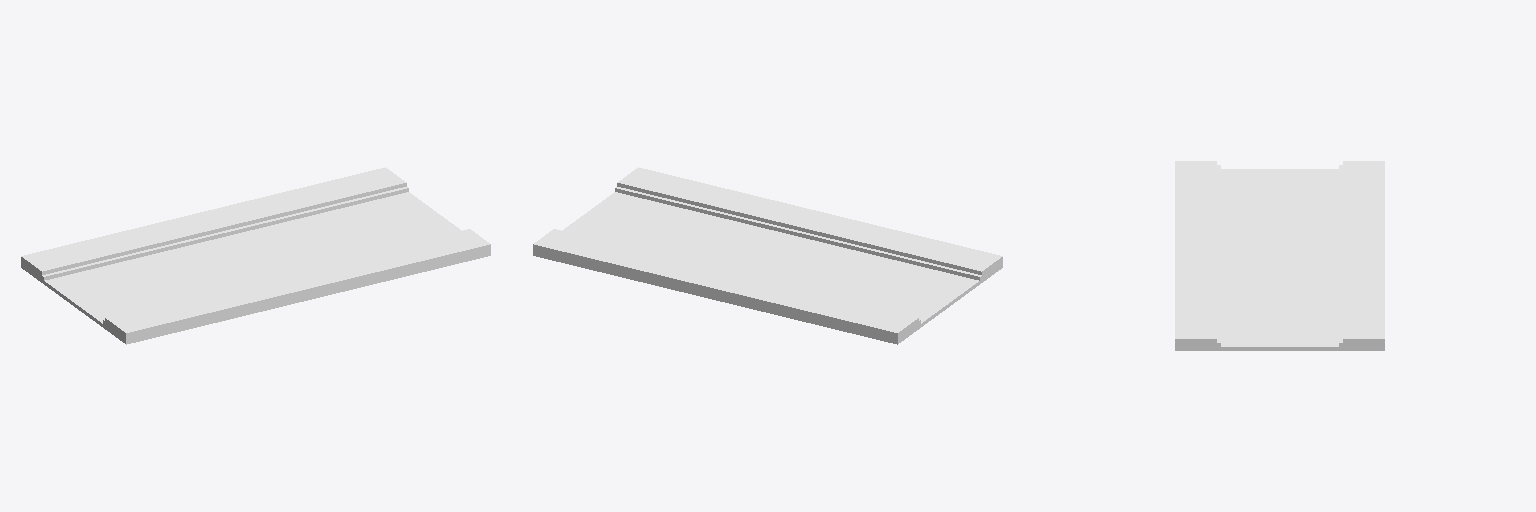
Rendered from Rue_modele.obj.
3 renders of one model, left to right at view 1: azimuth 30°, elevation 25°; view 2: azimuth 150°, elevation 25°; view 3: azimuth 270°, elevation 25°, orthographic.
Visible parts, largest first — view 1: object 1; view 2: object 1; view 3: object 1.
Boxes of the visible parts, x1,y1,x2,y2 form: object 1: [21, 167, 490, 344]; object 1: [533, 167, 1002, 344]; object 1: [1175, 161, 1384, 350].
Bounding box in the file's own units: 10 × 0.3 × 5.